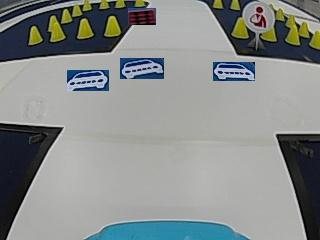cone: (285, 18, 300, 45), (49, 17, 65, 40), (104, 16, 121, 37), (77, 18, 94, 39), (232, 17, 248, 38), (28, 26, 43, 44), (308, 29, 320, 48), (61, 8, 72, 22), (275, 7, 284, 20), (229, 0, 240, 10), (72, 4, 82, 15), (114, 0, 126, 9), (99, 0, 109, 10), (82, 0, 92, 10), (212, 0, 223, 9), (133, 0, 146, 7)
patient: (245, 2, 274, 28)
